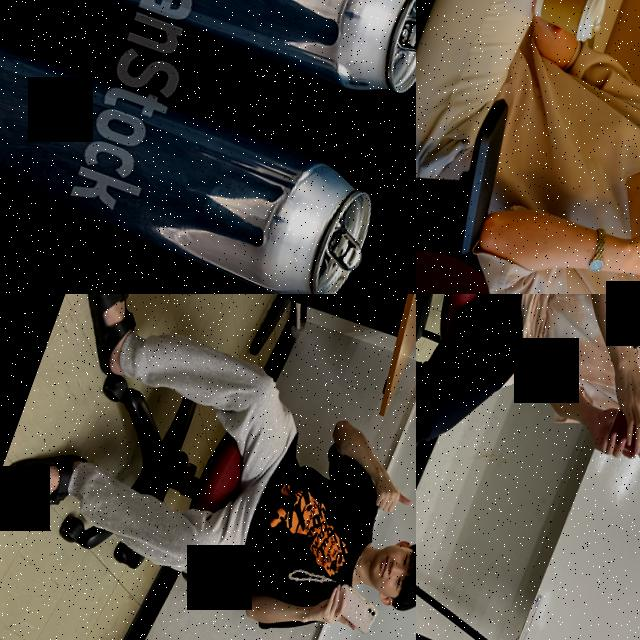can: (0, 1, 385, 294), (0, 0, 416, 113)
cup: (524, 0, 613, 49)
